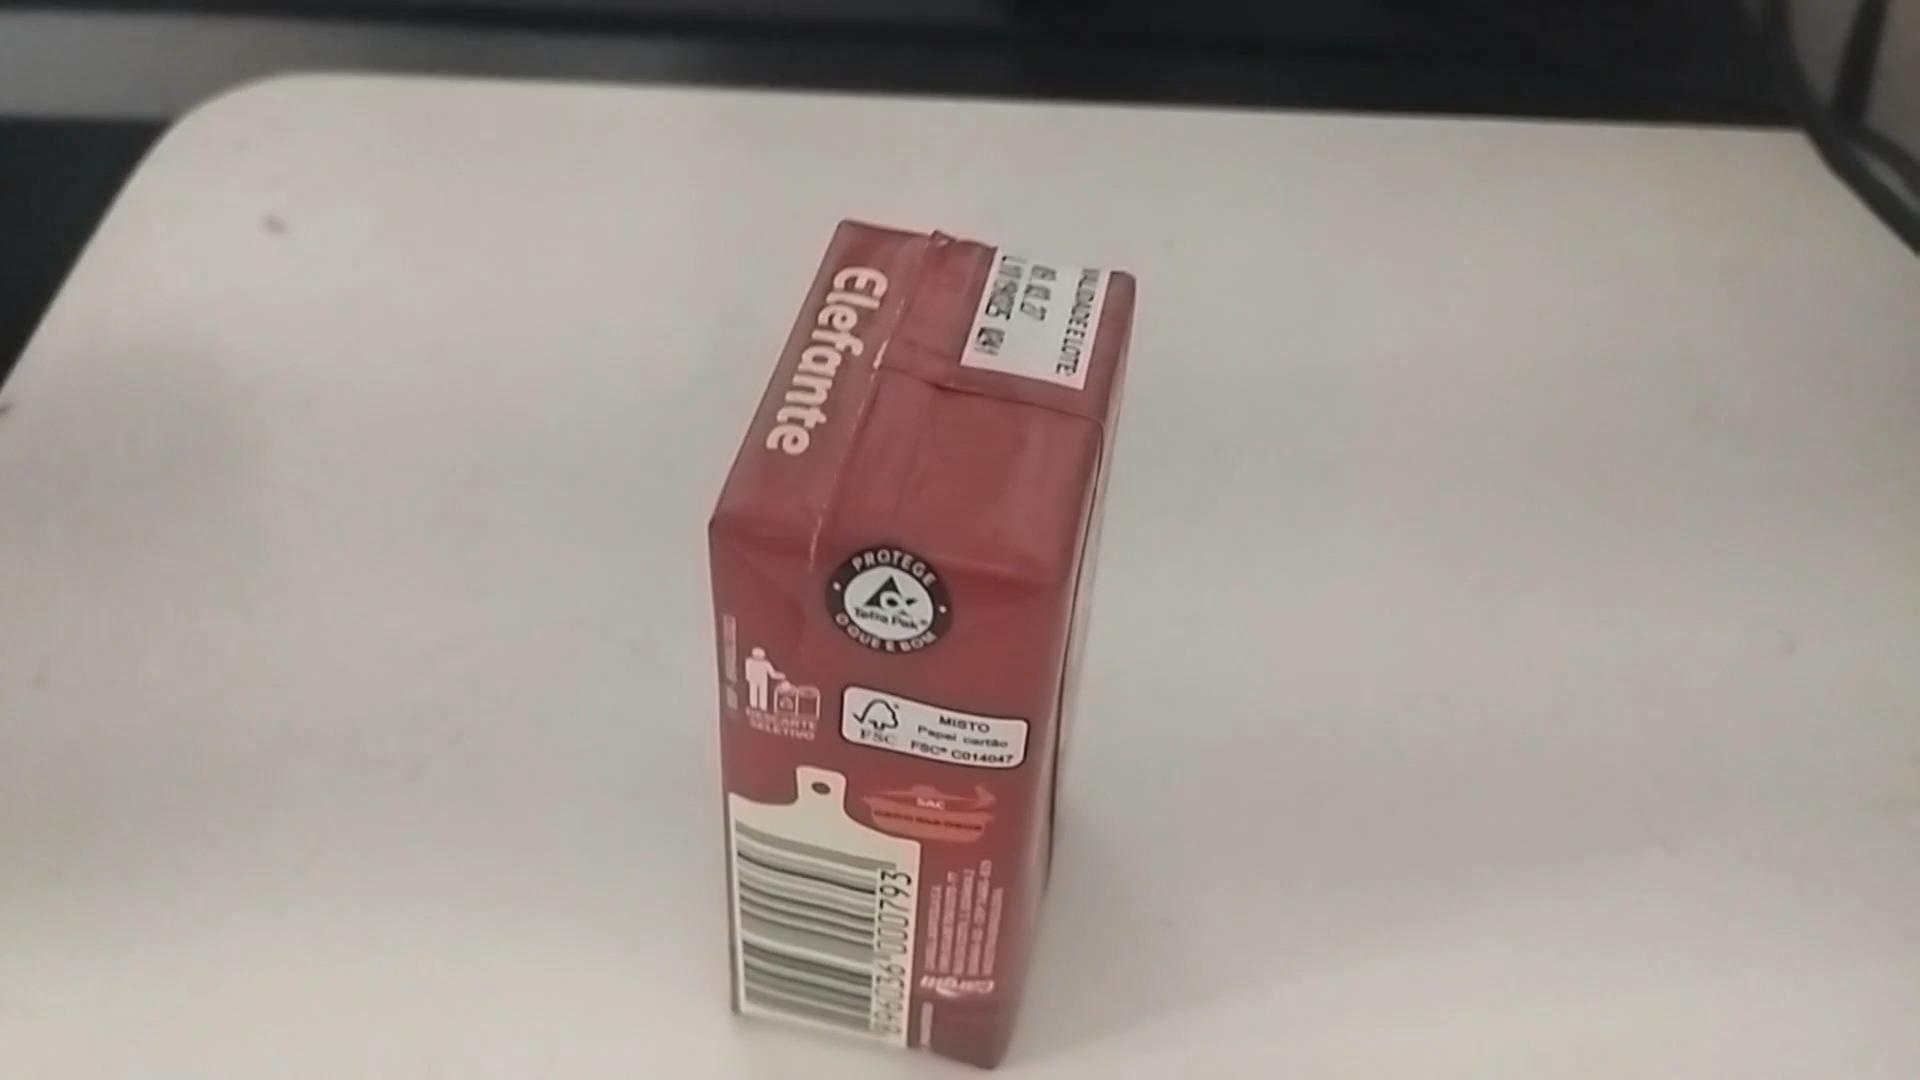tomate: (702, 212, 1151, 1063)
